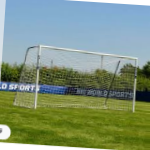goals: (12, 42, 140, 117)
